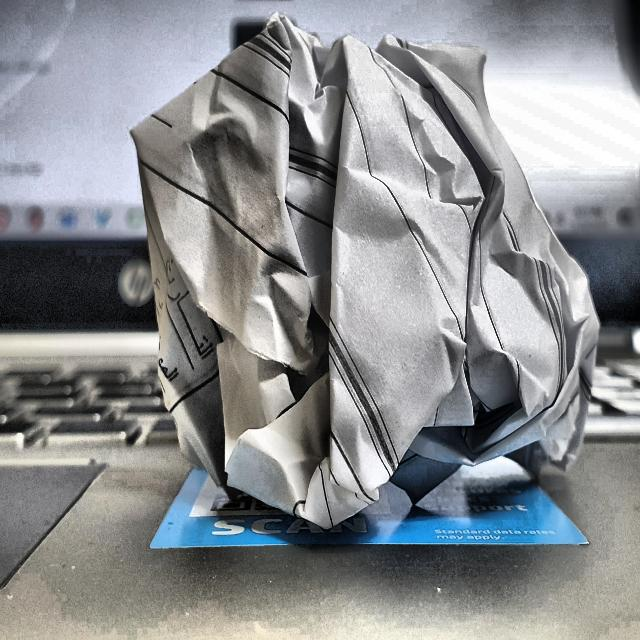paper: (82, 0, 622, 582)
